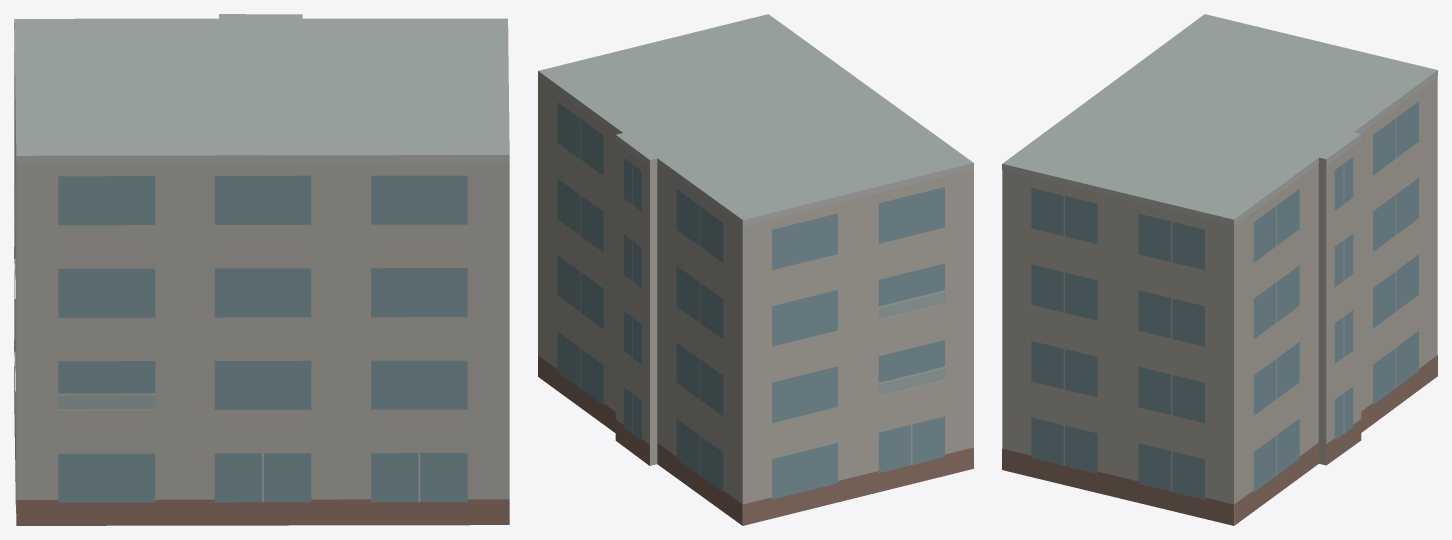
File: survey-upis-32691921.glb
3 renders of one model, left to right at view 1: azimuth 30°, elevation 25°; view 2: azimuth 150°, elevation 25°; view 3: azimuth 270°, elevation 25°, orthographic. The views are drawn at different scales.
Visible parts, largest first — view 1: survey-upis-32691921.tmp; view 2: survey-upis-32691921.tmp; view 3: survey-upis-32691921.tmp.
Part boxes in pixels (box(x1,y1,x2,y2)): survey-upis-32691921.tmp: box(14, 14, 509, 525); survey-upis-32691921.tmp: box(538, 14, 973, 525); survey-upis-32691921.tmp: box(1002, 14, 1437, 525).
Size of the model in its own units: 16.87 by 11.7 by 15.09.
